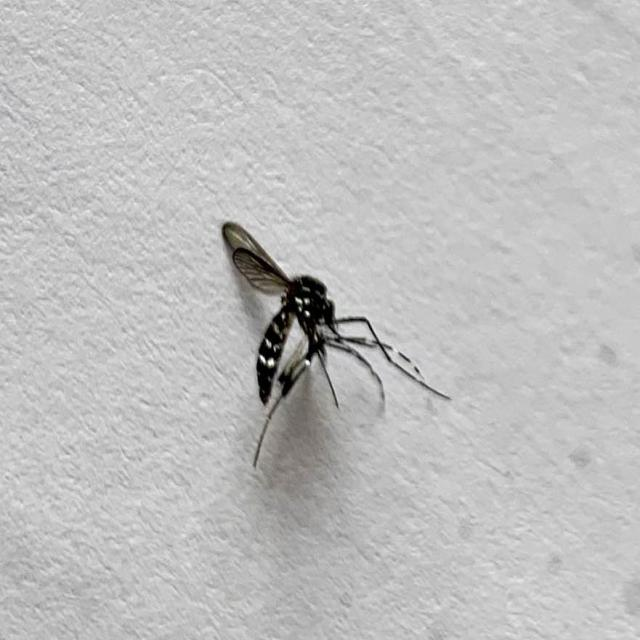albopictus: (213, 210, 448, 478)
